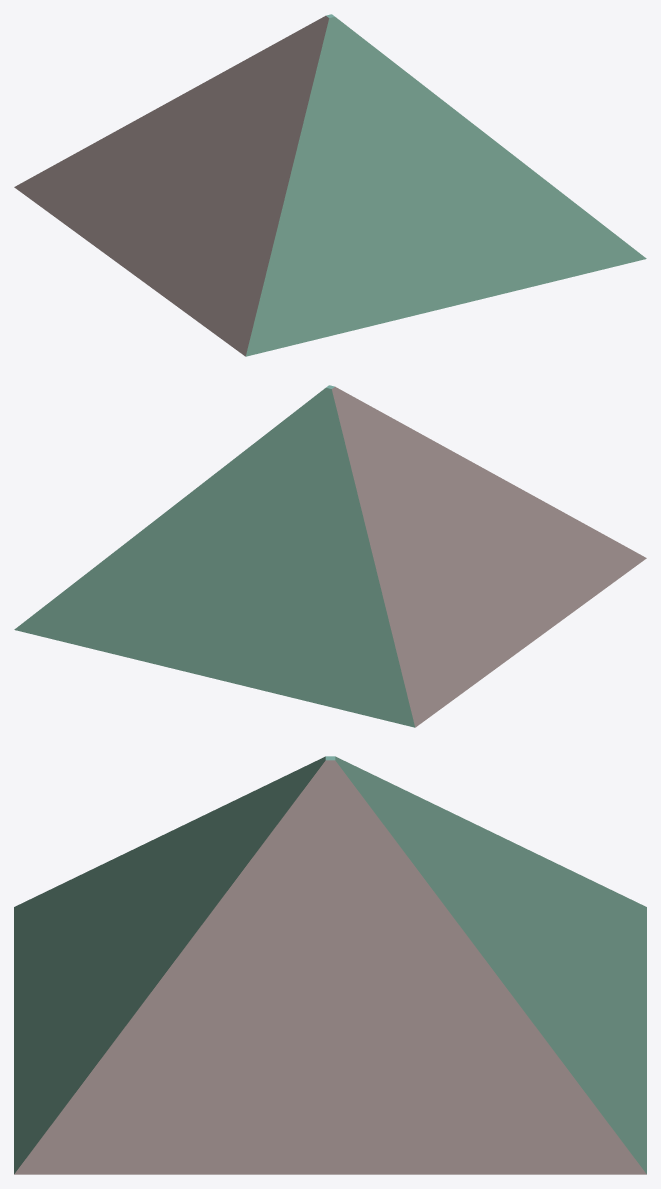
File: SM_ToitPointe.FBX
The picture shows the model from 3 angles, top to bottom: view 1: azimuth 30°, elevation 25°; view 2: azimuth 150°, elevation 25°; view 3: azimuth 270°, elevation 25°; orthographic projection. The views are drawn at different scales.
Parts seen in each view (by area): view 1: SM_ToitPointe; view 2: SM_ToitPointe; view 3: SM_ToitPointe.
Boxes of the visible parts, x1=… form: SM_ToitPointe: x1=14, y1=14, x2=646, y2=356; SM_ToitPointe: x1=14, y1=385, x2=646, y2=727; SM_ToitPointe: x1=14, y1=756, x2=646, y2=1174.
Size of the model in its own units: 200 by 98.52 by 200.
